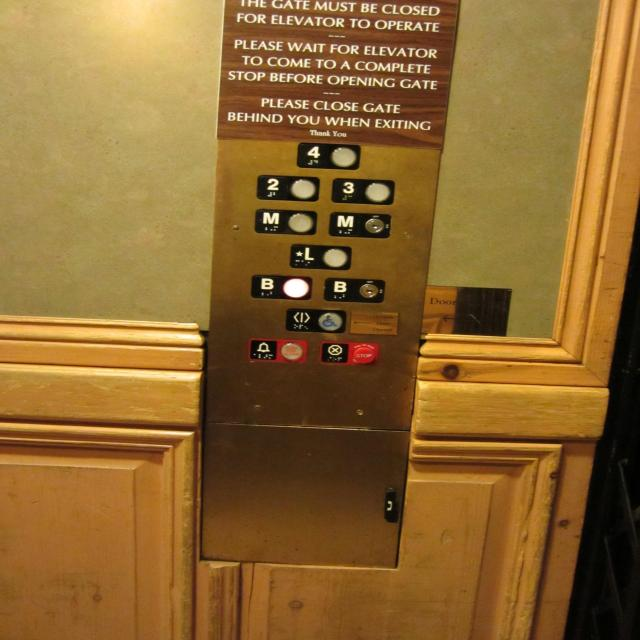2: (255, 172, 321, 204)
3: (331, 177, 396, 205)
4: (296, 142, 362, 170)
B: (249, 272, 314, 301), (322, 276, 386, 304)
M: (328, 209, 392, 240), (253, 207, 319, 236)
alarm: (248, 336, 308, 365)
open: (284, 306, 348, 335)
sL: (288, 242, 352, 271)
stop: (319, 340, 380, 367)
